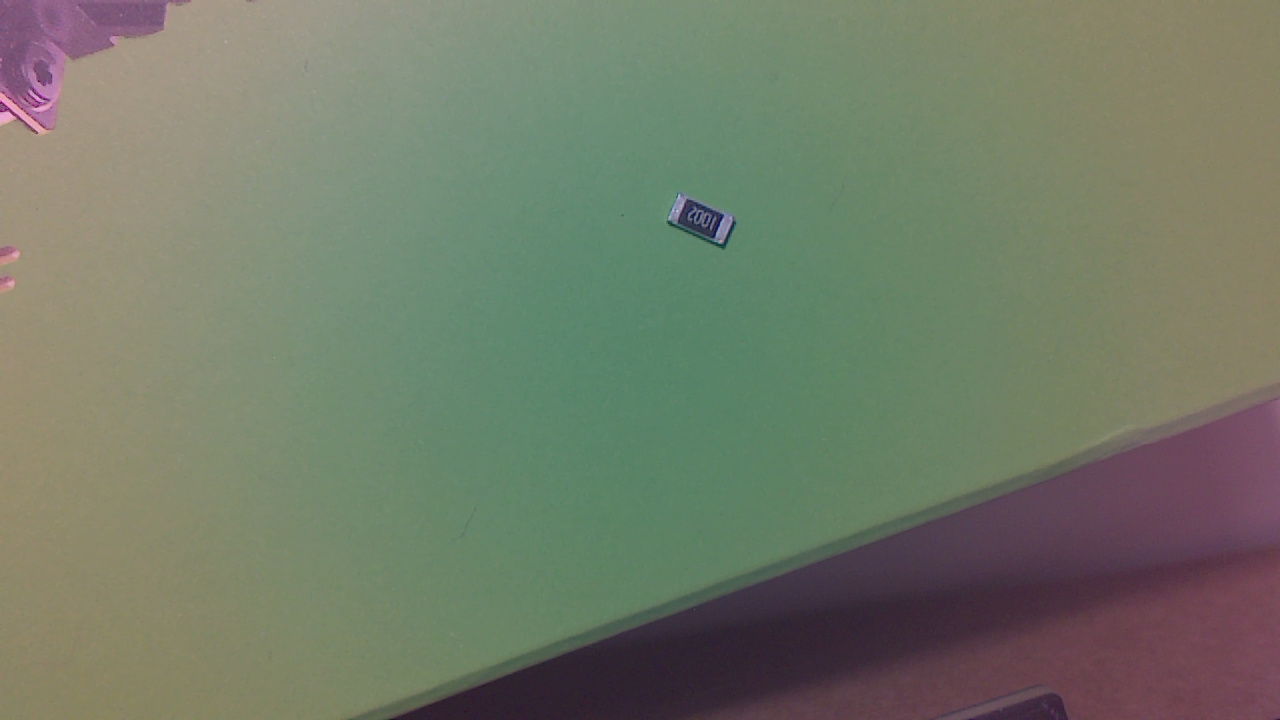Resistor: (672, 195, 742, 255)
